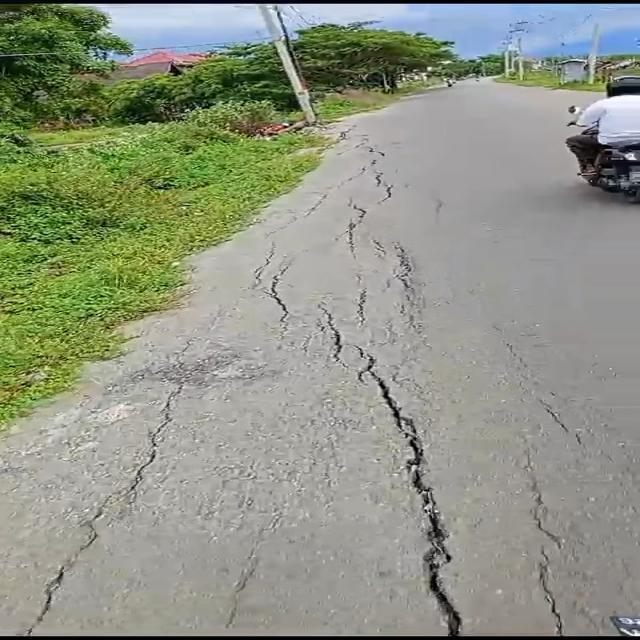Memanjang: (316, 311, 478, 640)
